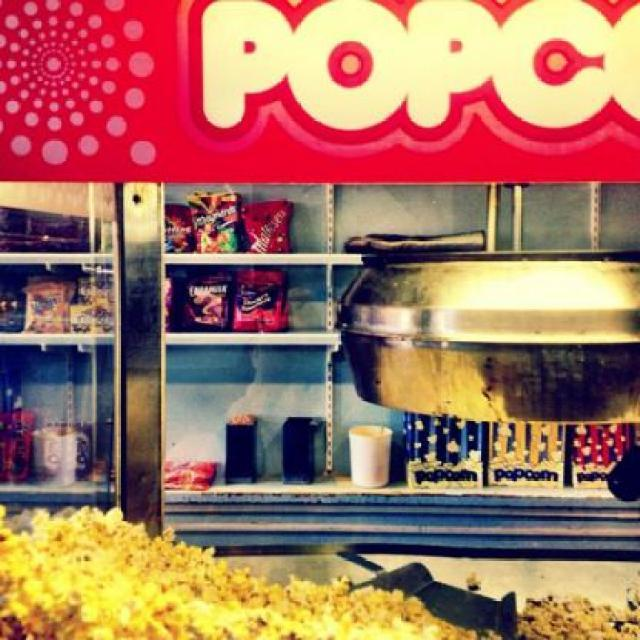Popcorn: (1, 498, 484, 638), (0, 501, 472, 638)
